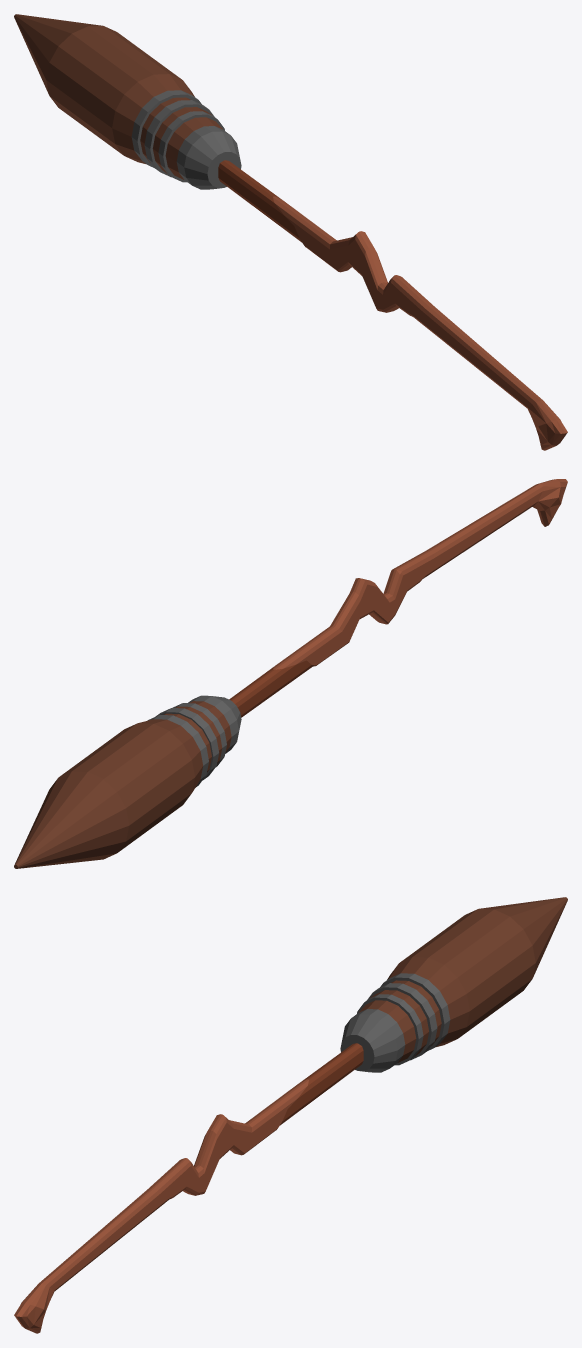
File: twigger90.obj
The picture shows the model from 3 angles, top to bottom: view 1: azimuth 30°, elevation 25°; view 2: azimuth 150°, elevation 25°; view 3: azimuth 330°, elevation 25°; orthographic projection.
Visible parts, largest first — view 1: Body; view 2: Body; view 3: Body.
Part boxes in pixels (box(x1,y1,x2,y2)): Body: box(14, 14, 567, 450); Body: box(14, 479, 567, 868); Body: box(14, 897, 567, 1333).
Bounding box in the file's own units: 0.4192 × 0.4327 × 4.81.
